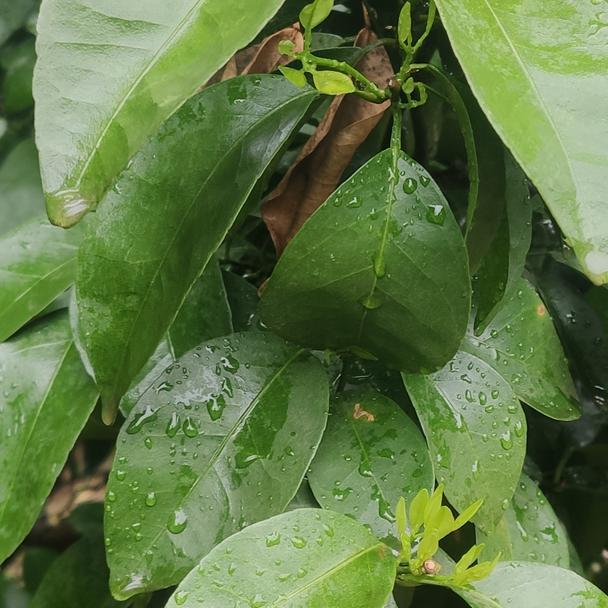shoot: (284, 2, 374, 98), (386, 487, 480, 565), (393, 2, 445, 91), (429, 549, 503, 603)
